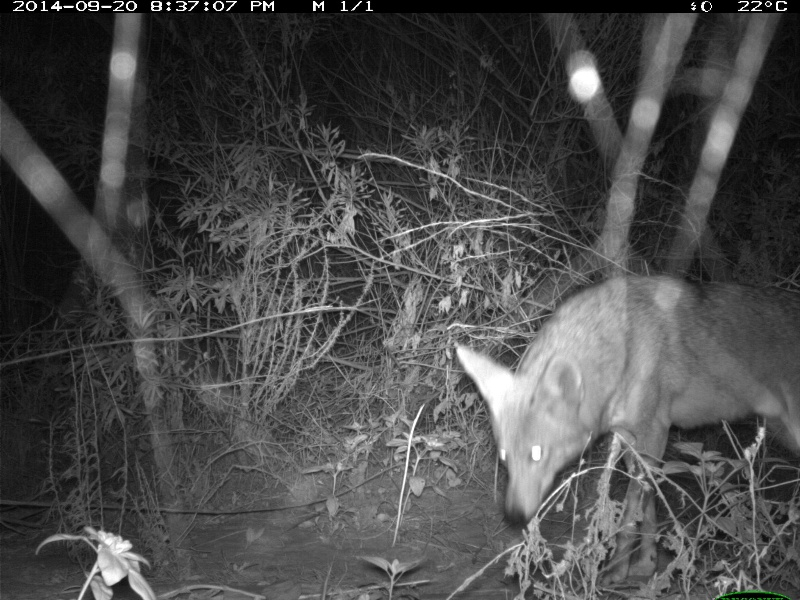coyote: (447, 273, 800, 552)
